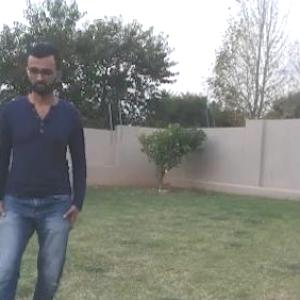follow: (0, 3, 96, 299)
